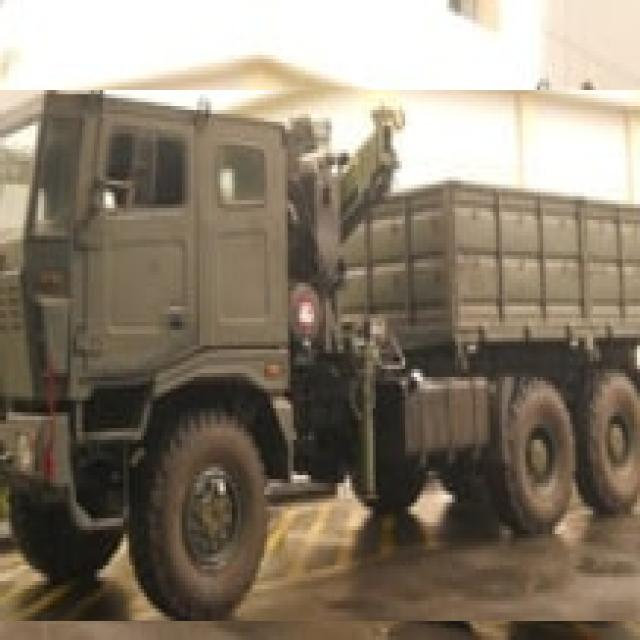truck: (0, 90, 640, 621)
